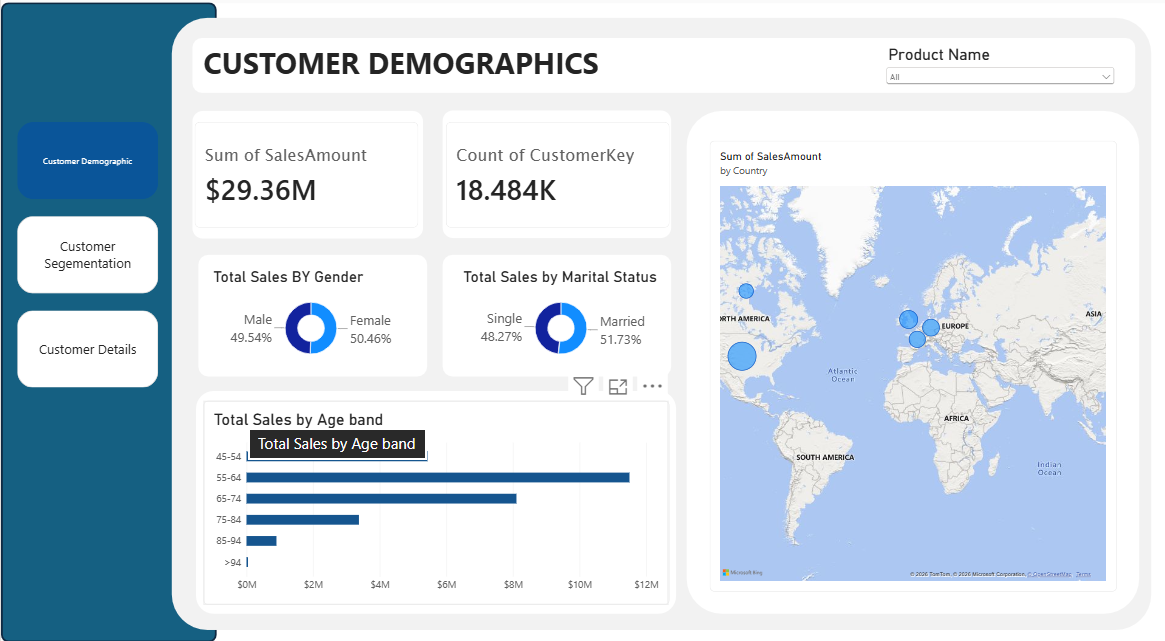

This screenshot's page, from the dashboard's own definition file:
{"tool":"powerbi","page":{"name":"Customer Demographic","canvas":[1920,1080],"ordinal":0},"visuals":[{"type":"cardVisual","fields":{"Data":["Sum(FactInternetSales.SalesAmount)"]},"box":[319,205.8,368.4,175],"z":0},{"type":"cardVisual","fields":{"Data":["Count(FactInternetSales.CustomerKey)"]},"box":[732.8,205.8,368.4,175],"z":1000},{"type":"donutChart","title":"Total Sales BY Gender","fields":{"Y":["Sum(FactInternetSales.SalesAmount)"],"Category":["DimCustomer.Gender"]},"box":[333.4,432.2,354,183.2],"z":2000},{"type":"donutChart","title":"Total Sales by Marital Status","fields":{"Y":["Sum(FactInternetSales.SalesAmount)"],"Category":["DimCustomer.MaritalStatus"]},"box":[745.1,432.2,354,183.2],"z":3000},{"type":"barChart","title":"Total Sales by Age band","fields":{"Category":["Age sort.Age band"],"Y":["Sum(FactInternetSales.SalesAmount)"]},"box":[332.9,664.3,767.1,335.7],"z":4000},{"type":"map","fields":{"Category":["DimGeography.Country"],"Size":["Sum(FactInternetSales.SalesAmount)"]},"box":[1167.5,237.5,670,742.5],"z":5000},{"type":"textbox","box":[332.5,75,802.5,67.5],"z":6000},{"type":"slicer","fields":{"Values":["DimProduct.Product Name"]},"box":[1452.5,77.5,385,67.5],"z":7000},{"type":"pageNavigator","box":[26.8,205.8,232.6,438.4],"z":8000}]}

Visuals, with their boxes in screenshot pixels (x1, y1, x2, y2), scaled from the page's 1920x1080 canvas onto the 1165x641 screenshot:
cardVisual - Sum(FactInternetSales.SalesAmount): [x1=194, y1=122, x2=417, y2=226]
cardVisual - Count(FactInternetSales.CustomerKey): [x1=445, y1=122, x2=668, y2=226]
"Total Sales BY Gender" donutChart: [x1=202, y1=257, x2=417, y2=365]
"Total Sales by Marital Status" donutChart: [x1=452, y1=257, x2=667, y2=365]
"Total Sales by Age band" barChart: [x1=202, y1=394, x2=667, y2=594]
map - DimGeography.Country x Sum(FactInternetSales.SalesAmount): [x1=708, y1=141, x2=1115, y2=582]
textbox: [x1=202, y1=45, x2=689, y2=85]
slicer - DimProduct.Product Name: [x1=881, y1=46, x2=1115, y2=86]
pageNavigator: [x1=16, y1=122, x2=157, y2=382]
